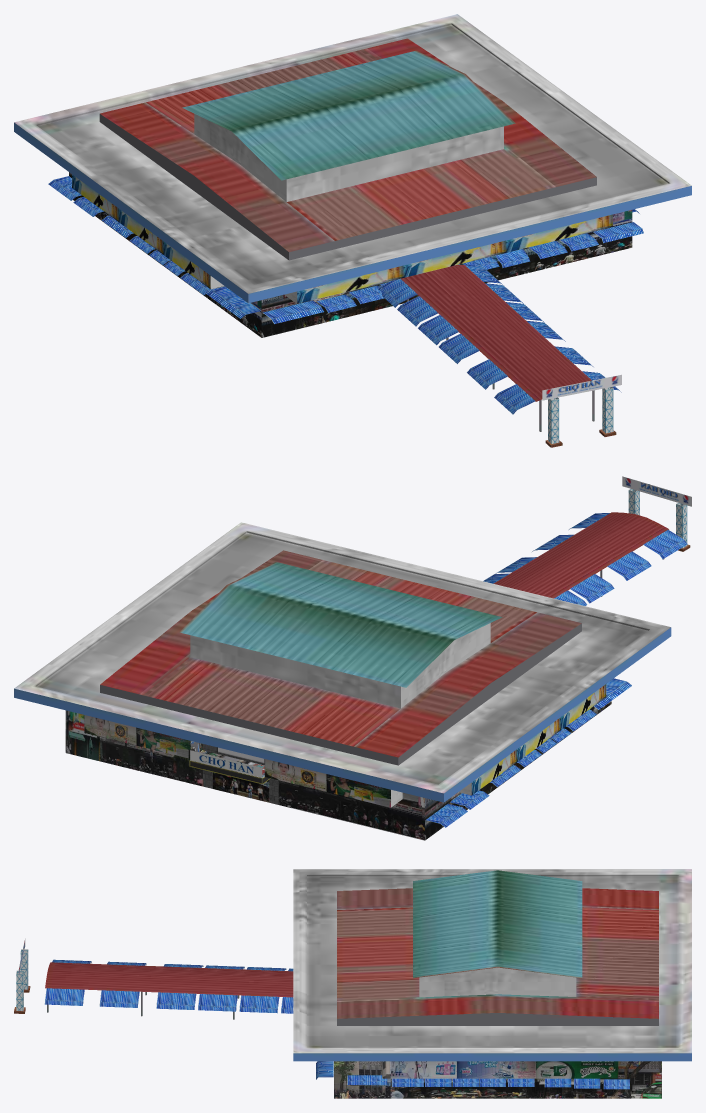
The picture shows the model from 3 angles, top to bottom: view 1: azimuth 30°, elevation 25°; view 2: azimuth 150°, elevation 25°; view 3: azimuth 270°, elevation 25°; orthographic projection. The views are drawn at different scales.
Parts seen in each view (by area): view 1: 5b599cf6d8a76647605c5eba.001; view 2: 5b599cf6d8a76647605c5eba.001; view 3: 5b599cf6d8a76647605c5eba.001.
Part boxes in pixels (bbox=[...]): 5b599cf6d8a76647605c5eba.001: bbox=[14, 14, 691, 447]; 5b599cf6d8a76647605c5eba.001: bbox=[14, 476, 691, 840]; 5b599cf6d8a76647605c5eba.001: bbox=[14, 869, 691, 1098].
Bounding box in the file's own units: 60.09 × 15.54 × 93.55.
1 material, 1 textured.
